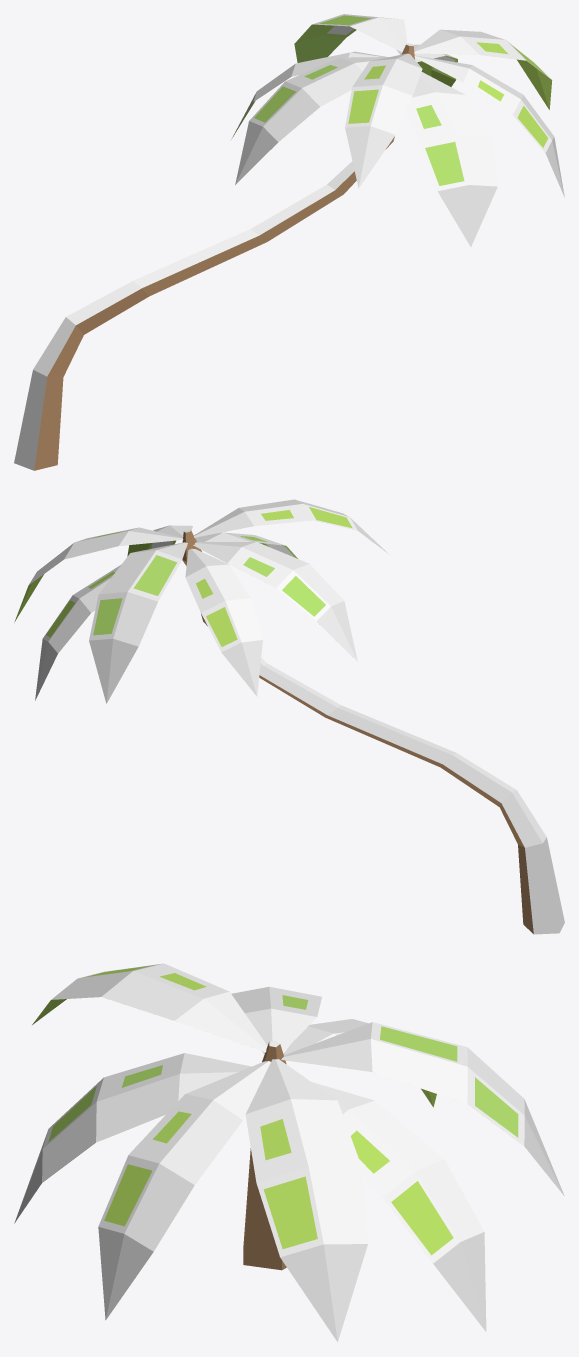
Rendered from Palm_Tree_m_Snow_05_LOD.fbx.
The picture shows the model from 3 angles, top to bottom: view 1: azimuth 30°, elevation 25°; view 2: azimuth 150°, elevation 25°; view 3: azimuth 270°, elevation 25°; orthographic projection. The views are drawn at different scales.
Visible parts, largest first — view 1: Palm_Tree_m_Snow_05_LOD0; view 2: Palm_Tree_m_Snow_05_LOD0; view 3: Palm_Tree_m_Snow_05_LOD0.
Boxes of the visible parts, x1,y1,x2,y2 form: Palm_Tree_m_Snow_05_LOD0: [14, 14, 564, 470]; Palm_Tree_m_Snow_05_LOD0: [14, 499, 564, 934]; Palm_Tree_m_Snow_05_LOD0: [14, 963, 564, 1341].
Size of what is drawn, in the model's own units: 578 by 336 by 332.
